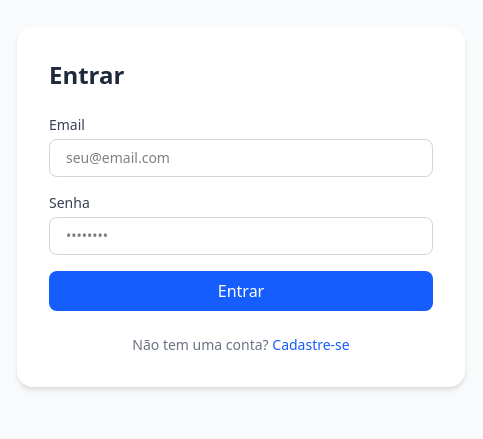
Scenario: LoginPage › deve exibir erro quando credenciais são inválidas
Type "teste@email.com" into the field with placeholder "seu@email.com".
click(241, 158); type("teste@email.com")  # box [49,139,433,177]
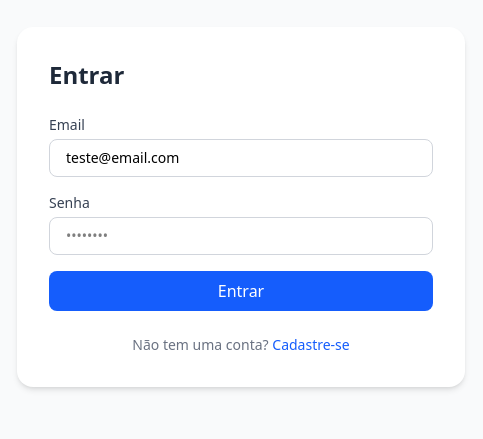
Type "123456" into the password field with placeholder "••••••••".
click(241, 236); type("123456")  # box [49,217,433,255]
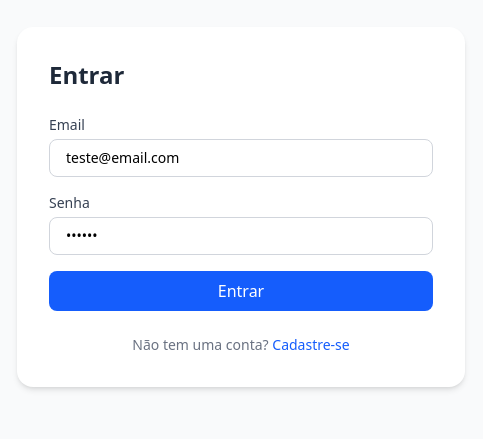
Click the button "Entrar".
click(241, 291)  # box [49,271,433,311]
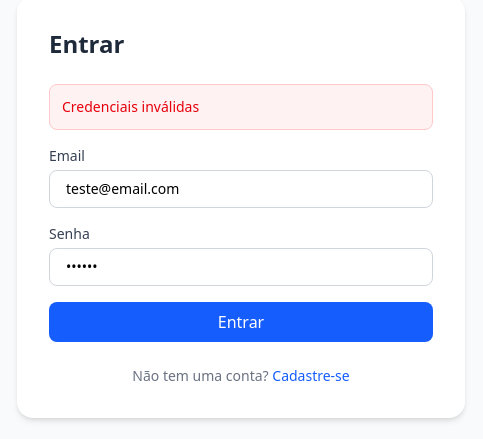
Expected: the text "Credenciais inválidas" is shown, [49,84,433,130]
